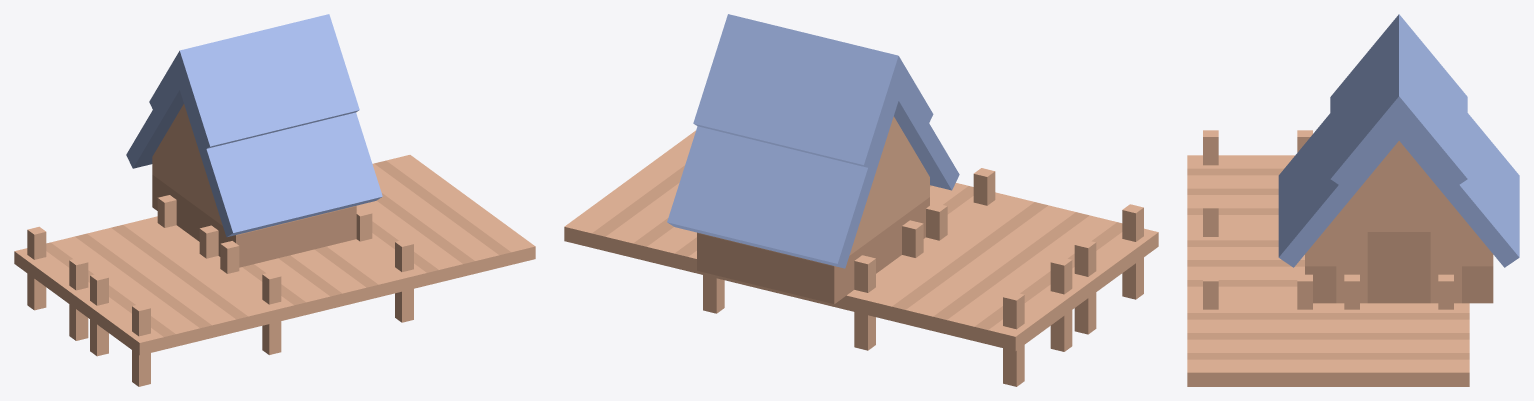
The model's file is FisherHouselvl1.fbx.
3 renders of one model, left to right at view 1: azimuth 30°, elevation 25°; view 2: azimuth 150°, elevation 25°; view 3: azimuth 270°, elevation 25°, orthographic. The views are drawn at different scales.
Visible parts, largest first — view 1: building.001, Dock.006, Dock.005, Dock.007, Dock.003, Dock, Dock.001; view 2: building.001, Dock.007, Dock.006, Dock, Dock.001, Dock.003, Dock.005; view 3: building.001, Dock.005, Dock, Dock.003, Dock.006.
Boxes of the visible parts, x1,y1,x2,y2 form: building.001: [126, 14, 382, 267]; Dock.006: [77, 265, 269, 386]; Dock.005: [351, 200, 535, 322]; Dock.007: [14, 219, 206, 340]; Dock.003: [208, 240, 402, 354]; Dock: [356, 155, 472, 224]; Dock.001: [146, 195, 220, 265]; building.001: [667, 14, 959, 304]; Dock.007: [864, 248, 1087, 386]; Dock.006: [939, 196, 1158, 334]; Dock: [564, 174, 724, 313]; Dock.001: [715, 220, 937, 350]; Dock.003: [923, 168, 1009, 248]; Dock.005: [636, 130, 695, 184]; building.001: [1278, 14, 1519, 303]; Dock.005: [1187, 274, 1328, 386]; Dock: [1328, 274, 1469, 386]; Dock.003: [1187, 202, 1304, 299]; Dock.006: [1187, 130, 1312, 228].
Bounding box in the file's own units: 82 × 47.81 × 52.95.
